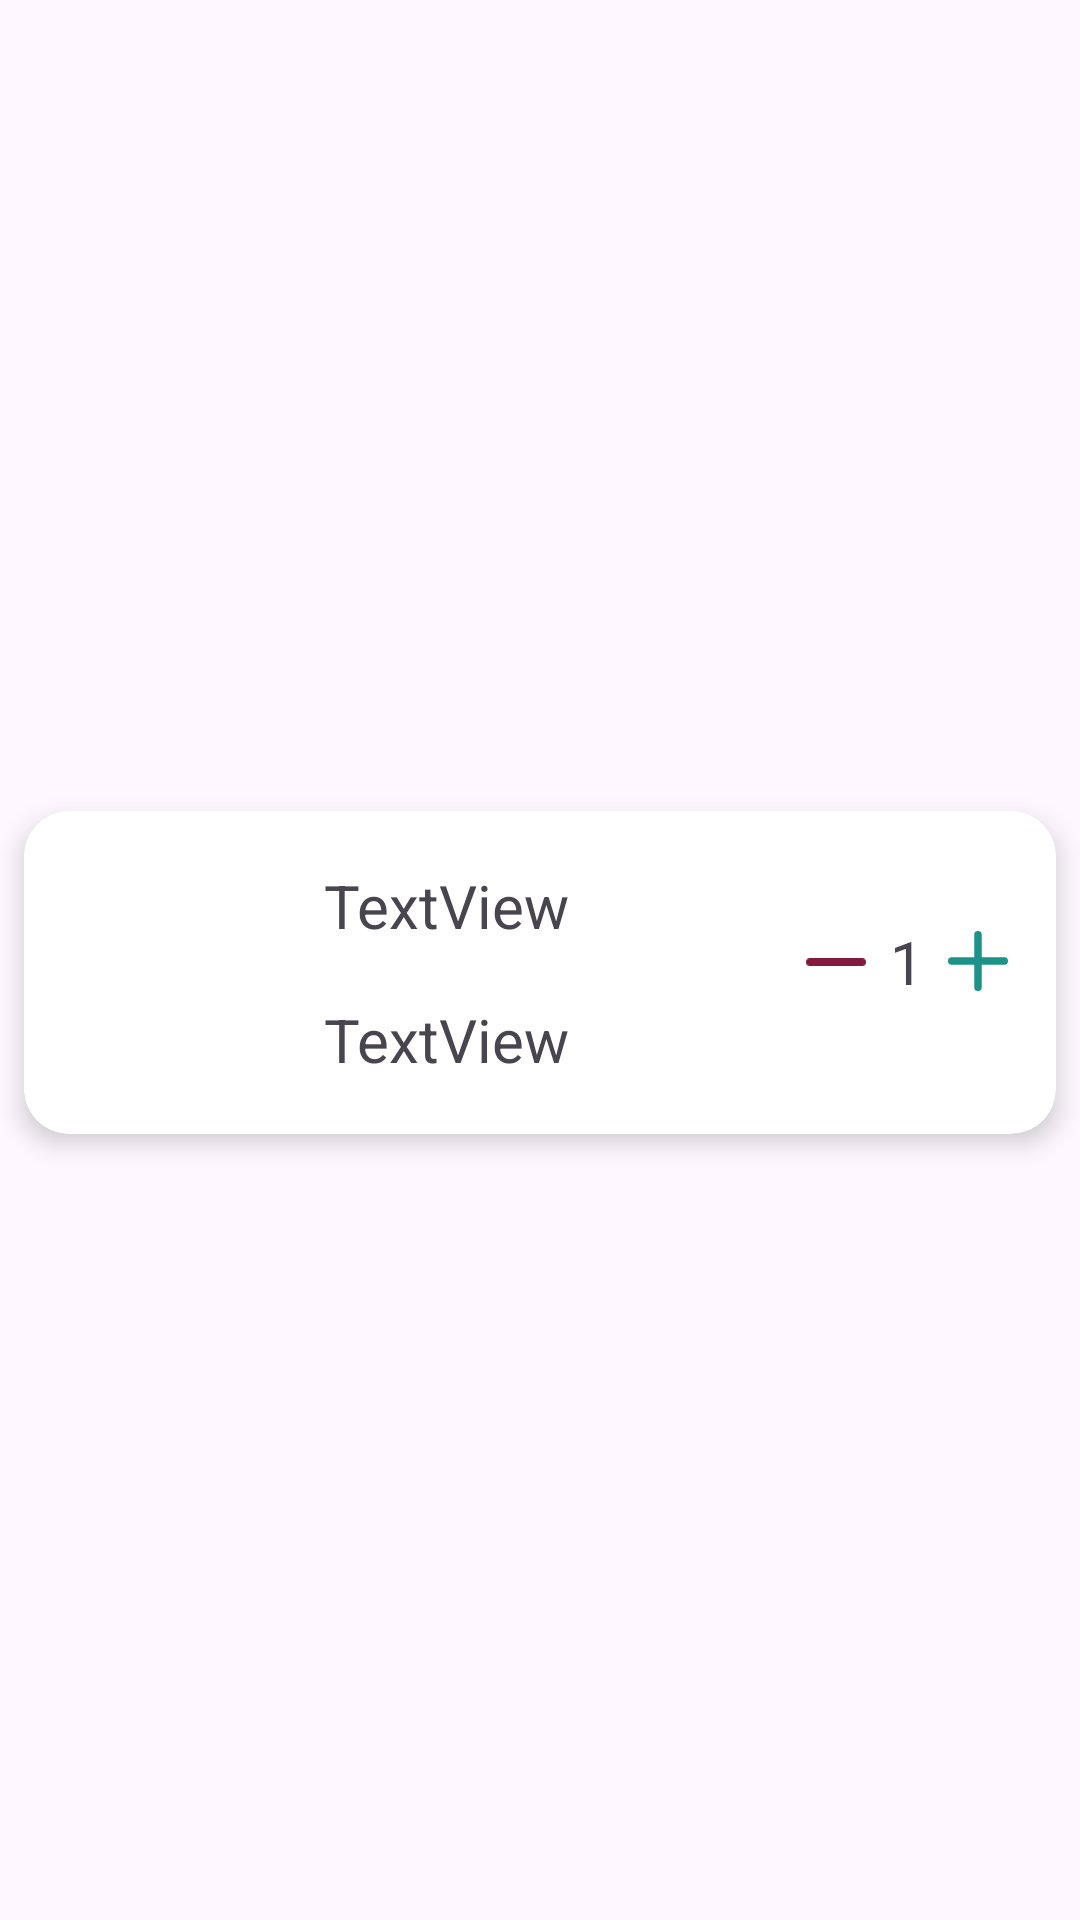

Icon click points for this 1080×1920 phone screenshot, format (x=x, y=y):
plus: (x=978, y=961)
